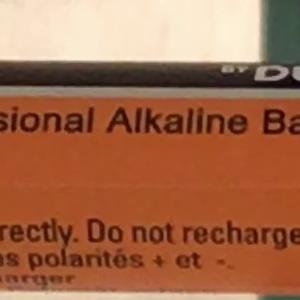keyword: (76, 97, 153, 143)
